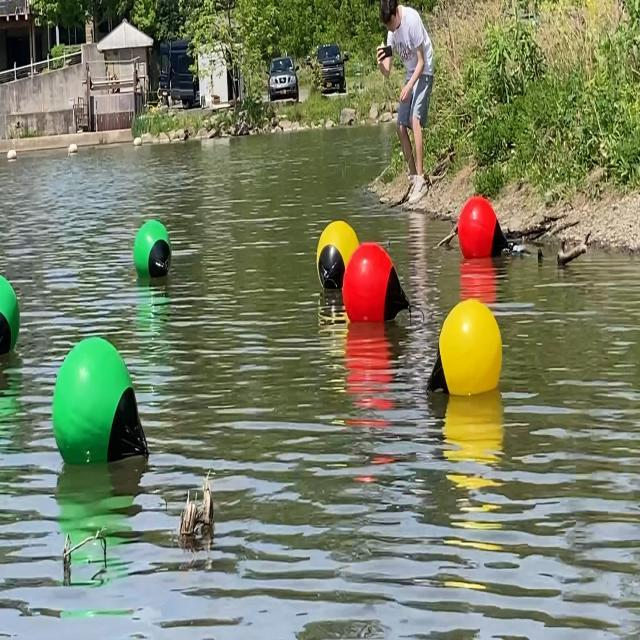buoy: (52, 334, 148, 468), (428, 299, 502, 397), (344, 242, 409, 325), (316, 220, 362, 290), (458, 196, 508, 260), (134, 219, 171, 279), (0, 274, 20, 356)
